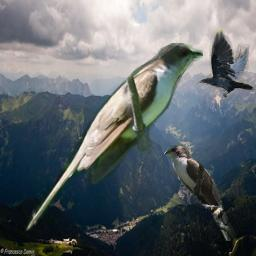Crow: (197, 28, 254, 98)
Cuckoo: (23, 43, 203, 234), (164, 145, 237, 241)
